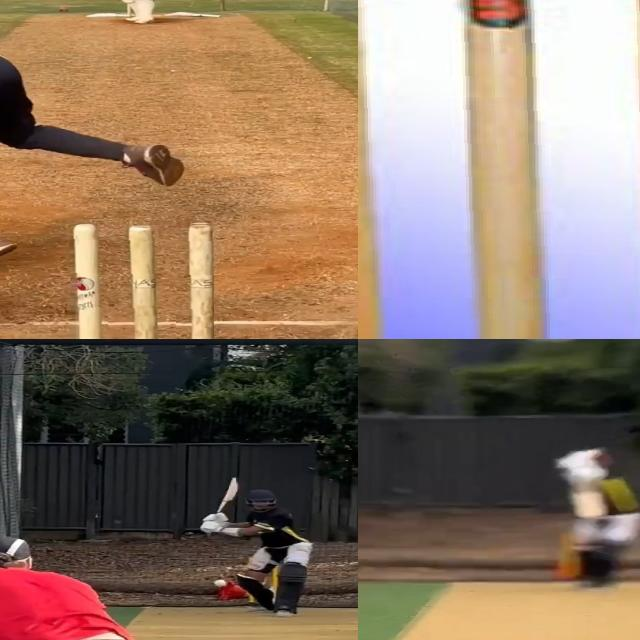Cricket ball: (211, 577, 228, 587), (58, 6, 69, 13)
Stumps: (358, 0, 640, 339), (71, 222, 213, 339)
